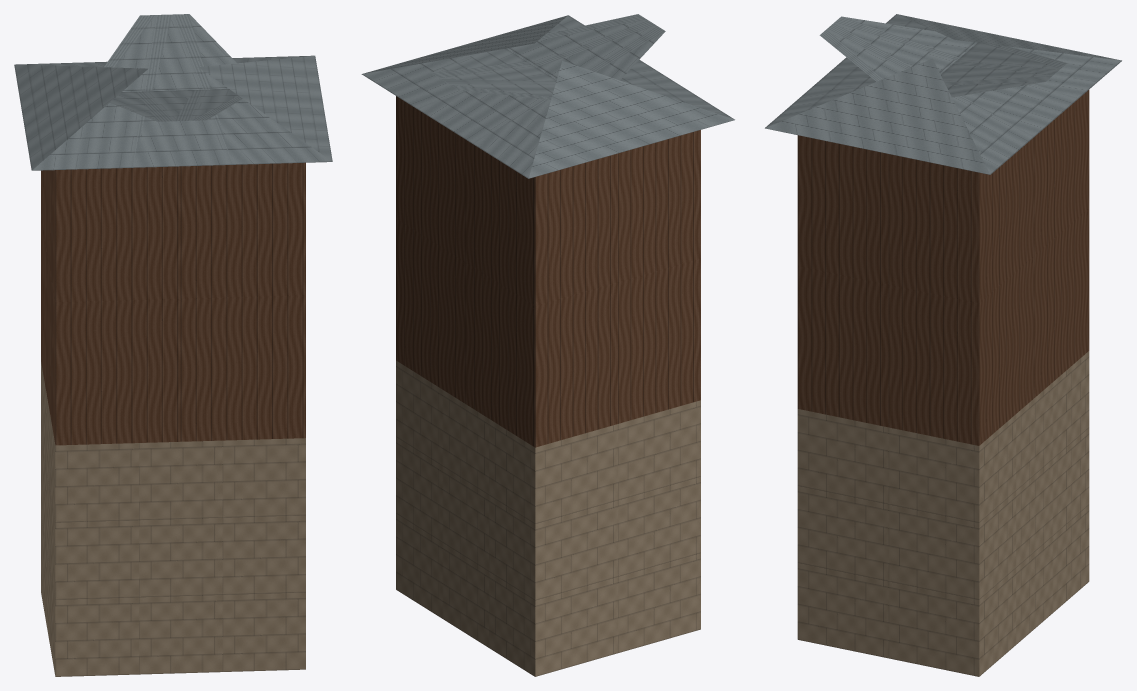
The model's file is bld_c11_41_483.gltf.
3 renders of one model, left to right at view 1: azimuth 30°, elevation 25°; view 2: azimuth 150°, elevation 25°; view 3: azimuth 270°, elevation 25°, orthographic.
Parts seen in each view (by area): view 1: bld_c11_41_483; view 2: bld_c11_41_483; view 3: bld_c11_41_483.
Boxes of the visible parts, x1,y1,x2,y2 form: bld_c11_41_483: (14,14,332,676); bld_c11_41_483: (361,14,734,676); bld_c11_41_483: (765,14,1121,676).
Bounding box in the file's own units: 7.62 × 12.4 × 7.17.
Materials: 3 (3 with a texture image).
